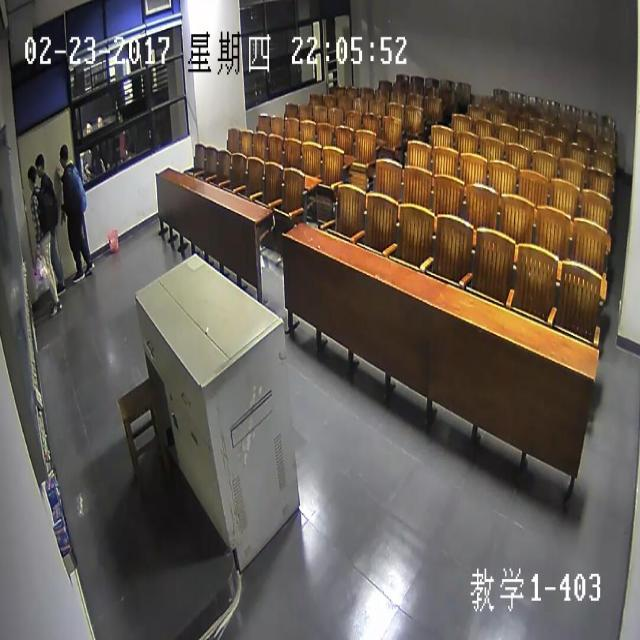person: (33, 152, 46, 174), (27, 164, 38, 188), (115, 109, 126, 129), (60, 144, 69, 168), (84, 123, 94, 139), (95, 115, 104, 129)
